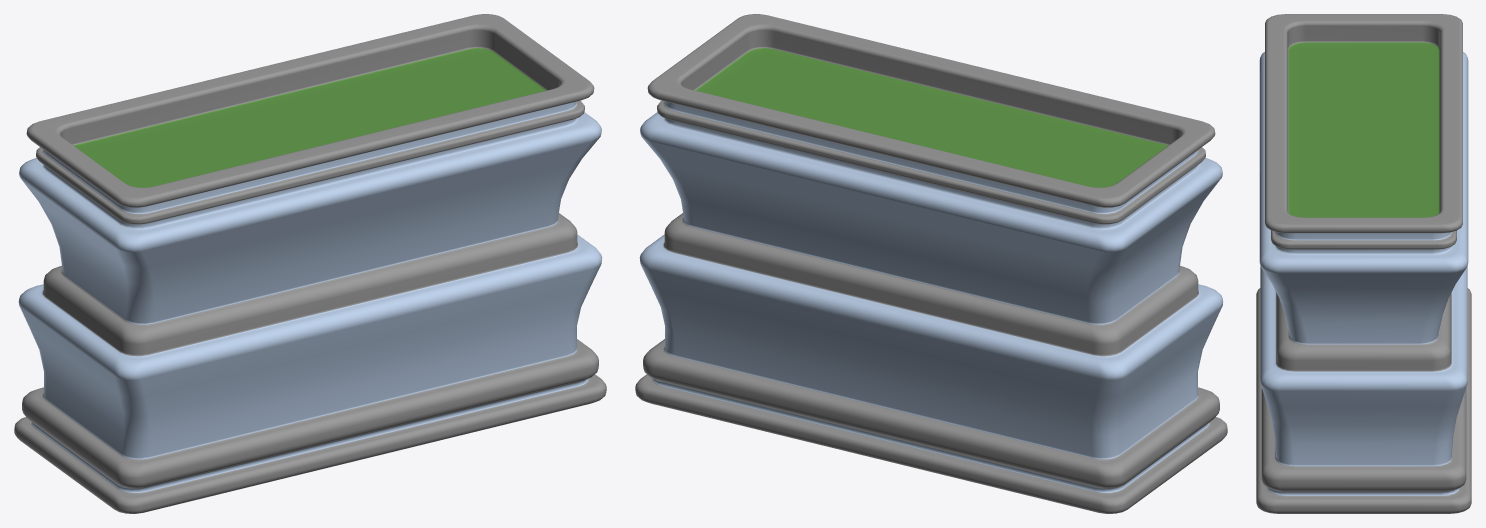
File: SM_Building_05_Part_08.fbx
3 views of the same model, side by side, from view 1: azimuth 30°, elevation 25°; view 2: azimuth 150°, elevation 25°; view 3: azimuth 270°, elevation 25° (orthographic). The views are drawn at different scales.
Parts seen in each view (by area): view 1: SM_Building_05_Part_08; view 2: SM_Building_05_Part_08; view 3: SM_Building_05_Part_08.
Part boxes in pixels (box(x1,y1,x2,y2)): SM_Building_05_Part_08: box(14, 14, 606, 513); SM_Building_05_Part_08: box(635, 14, 1227, 513); SM_Building_05_Part_08: box(1256, 14, 1471, 513).
Bounding box in the file's own units: 3659 × 2220 × 1512.
